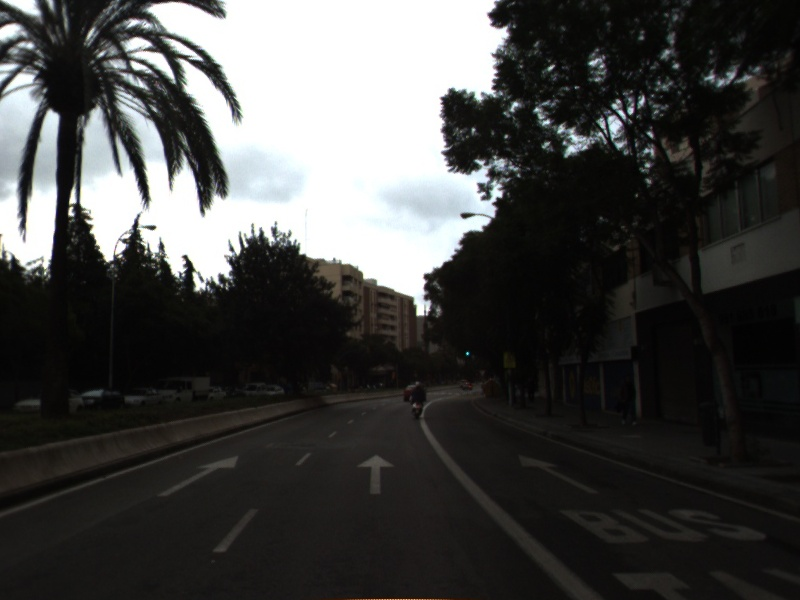STRAIGHT: (155, 453, 241, 498), (516, 452, 600, 496), (354, 452, 398, 497)
